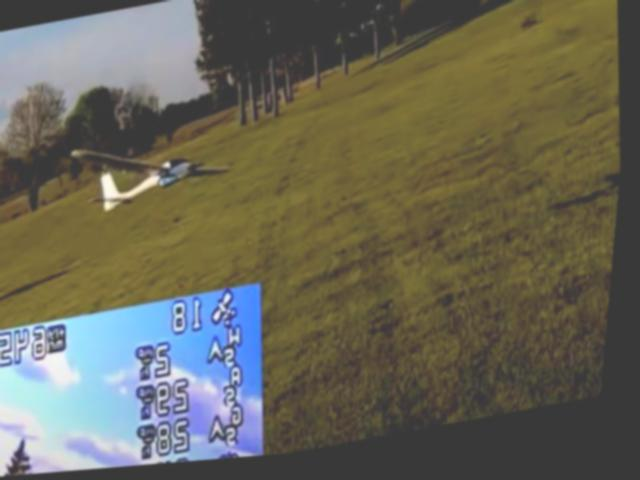iha: (59, 122, 242, 224)
